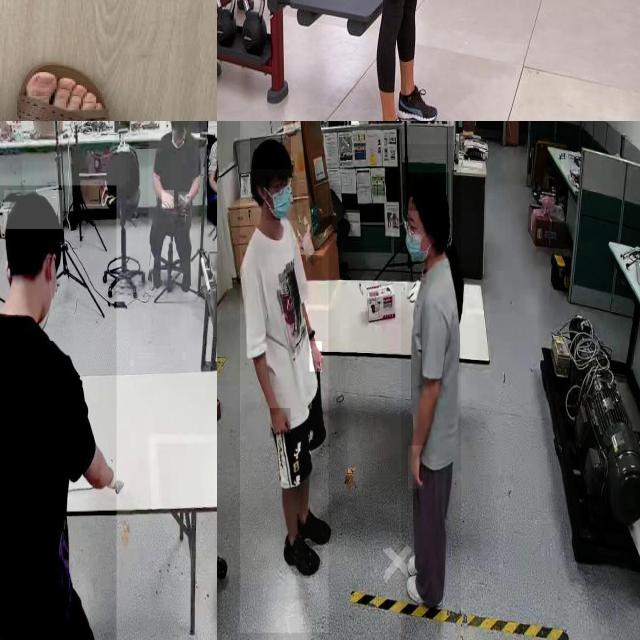Sandals: (15, 60, 115, 121)
face_mask: (400, 214, 428, 262), (266, 176, 296, 220)
hand_noglove: (408, 445, 424, 490), (270, 408, 291, 438), (310, 342, 322, 372), (162, 190, 174, 209), (178, 192, 192, 206)
head_nohelmet: (4, 190, 64, 230), (406, 172, 450, 212), (250, 138, 292, 170)
person: (0, 185, 117, 640), (240, 121, 329, 633), (400, 144, 461, 640), (148, 121, 199, 297), (373, 0, 438, 121), (207, 121, 217, 226)
shoes: (294, 502, 334, 555), (279, 530, 321, 578), (405, 546, 451, 583), (403, 573, 447, 610)
